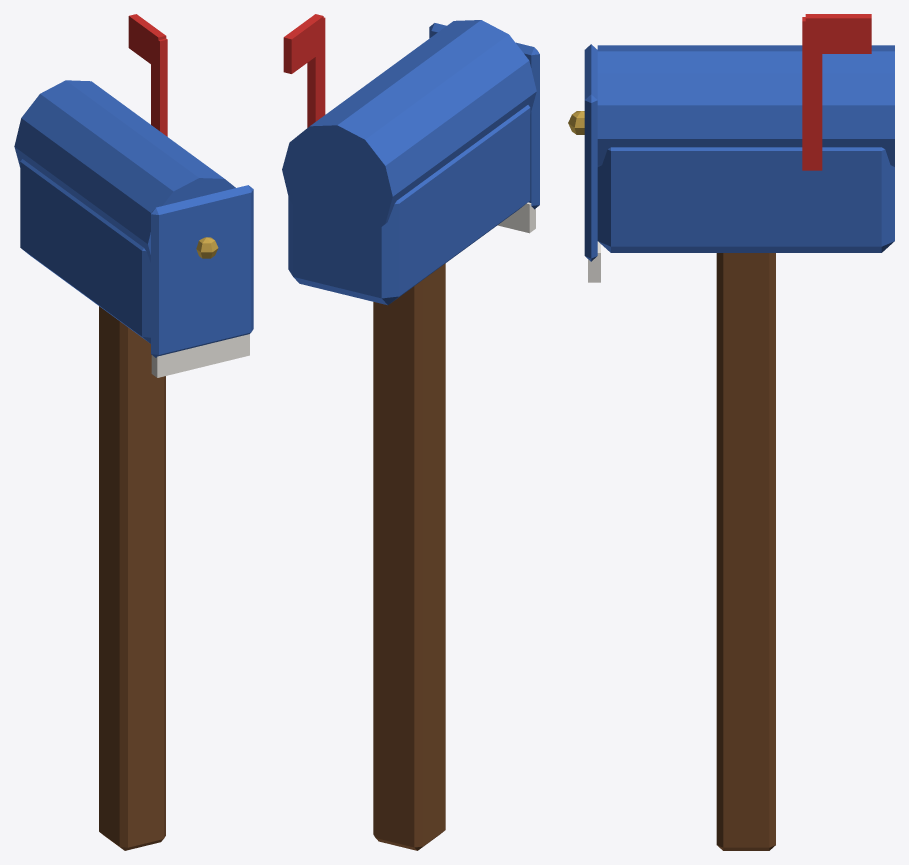
The model's file is yard_mailbox_v01.glb.
3 views of the same model, side by side, from view 1: azimuth 30°, elevation 25°; view 2: azimuth 150°, elevation 25°; view 3: azimuth 270°, elevation 25° (orthographic). The views are drawn at different scales.
Parts seen in each view (by area): view 1: mailbox; view 2: mailbox; view 3: mailbox.
Part boxes in pixels (<box>): mailbox: <box>14,14,253,850</box>; mailbox: <box>282,14,539,850</box>; mailbox: <box>568,14,894,850</box>.
Bounding box in the file's own units: 0.2175 × 1.43 × 0.495.
